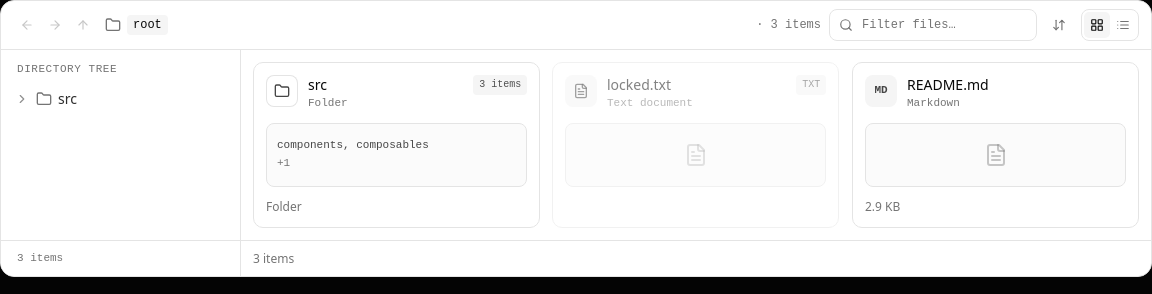
FileManager: browsing › shows only folders in the directory tree and navigates from it
Click the element showing "src" below "Directory tree". click: coordinates (46, 98)
box: [15,89,77,108]
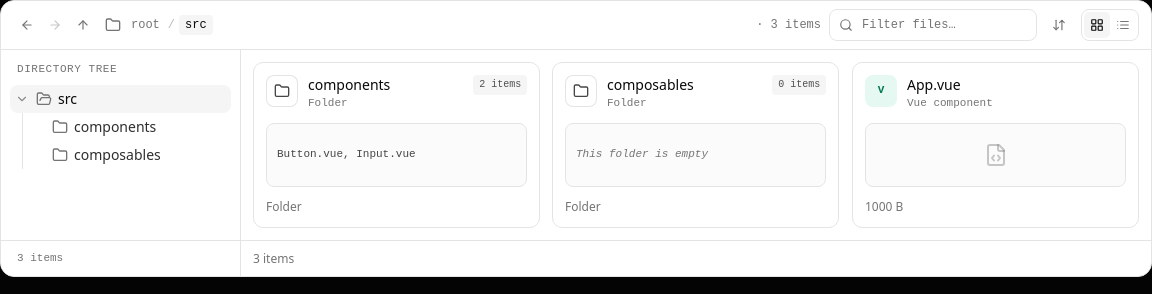
Check: the text "src" in the row of "· 3 items" is shown, box [185,18,207,32]
Check: the list item "composables" is shown, box [52,145,161,164]
